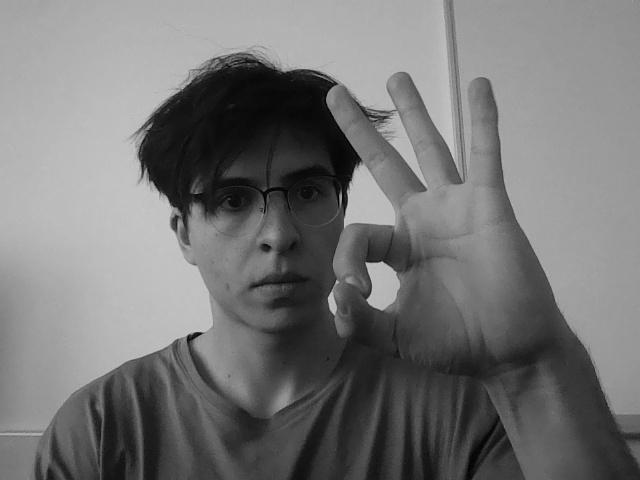OK: (320, 66, 574, 383)
